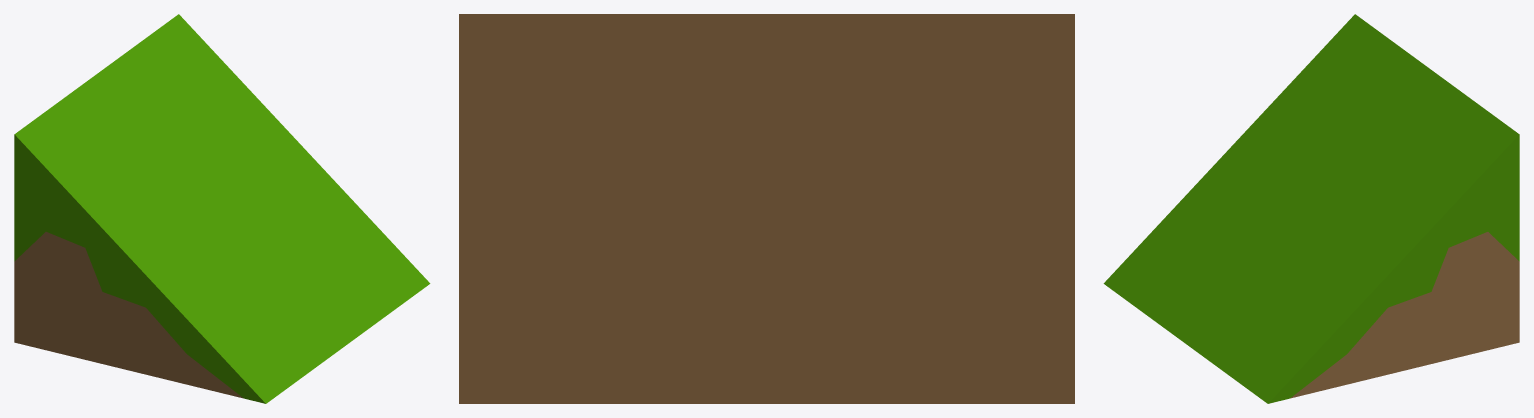
The model's file is RPG_Tiles_Hex_Dirt_Ramp_Covered_01.FBX.
The picture shows the model from 3 angles, left to right: view 1: azimuth 30°, elevation 25°; view 2: azimuth 150°, elevation 25°; view 3: azimuth 270°, elevation 25°; orthographic projection. The views are drawn at different scales.
Visible parts, largest first — view 1: RPG_Tiles_Hex_Dirt_Ramp_Covered_01; view 2: RPG_Tiles_Hex_Dirt_Ramp_Covered_01; view 3: RPG_Tiles_Hex_Dirt_Ramp_Covered_01.
Boxes of the visible parts, x1=… form: RPG_Tiles_Hex_Dirt_Ramp_Covered_01: x1=14, y1=14, x2=430, y2=403; RPG_Tiles_Hex_Dirt_Ramp_Covered_01: x1=459, y1=14, x2=1074, y2=403; RPG_Tiles_Hex_Dirt_Ramp_Covered_01: x1=1103, y1=14, x2=1519, y2=403.
Bounding box in the file's own units: 2220 × 1186 × 2148.
